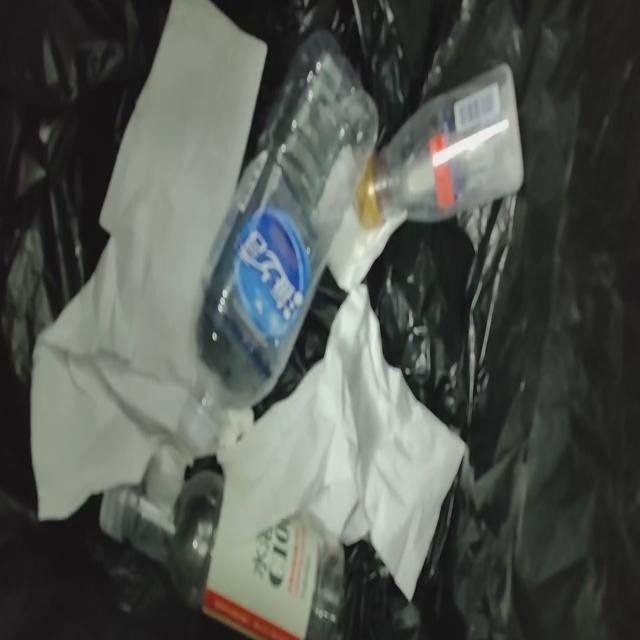bottle: (180, 31, 378, 453), (100, 461, 344, 639), (357, 64, 523, 228)
paper: (31, 0, 266, 518), (216, 284, 466, 600), (312, 144, 406, 292), (140, 440, 192, 510), (218, 408, 254, 449)
